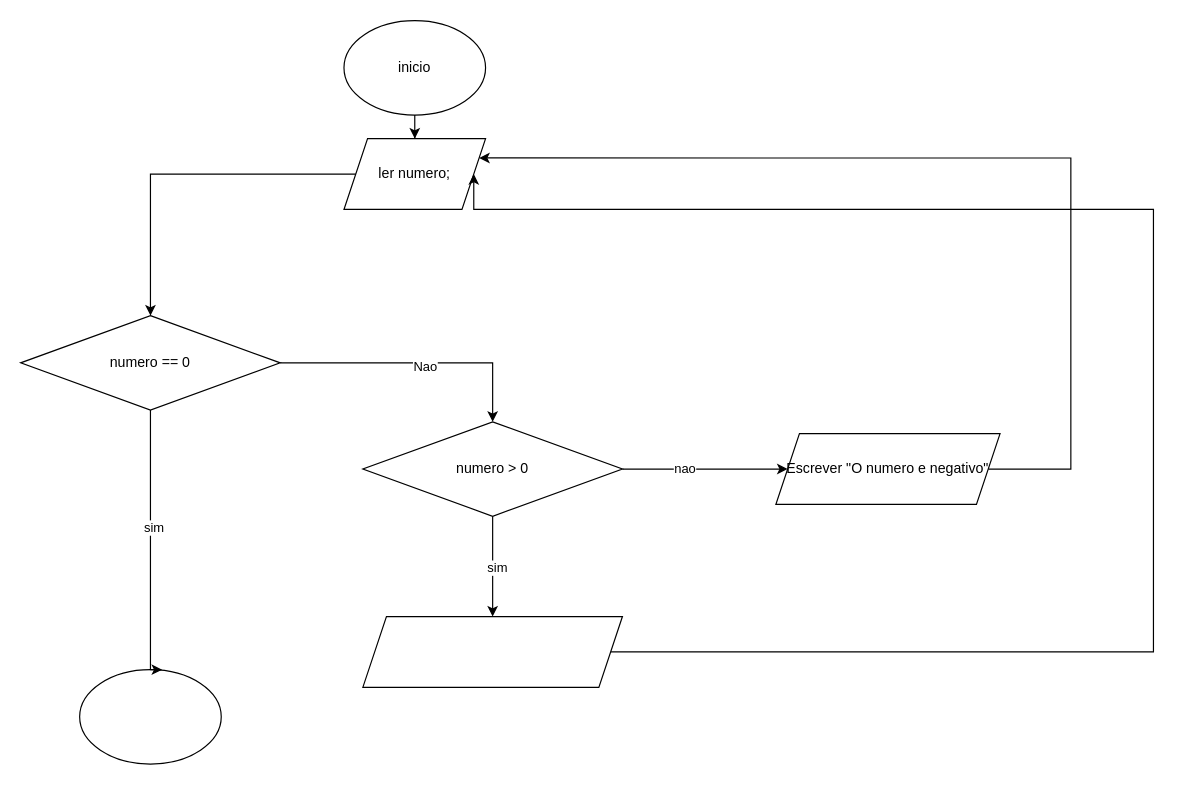
Some shapes in this 1184 by 785 pixel diagram are drawn without their labels. The shapes that lost their labels are listed below. From the top down, each one's centre as x and y in pixels, then its label:
the point at 492,651: Escrever "O numero e Postitivo"
the point at 149,716: Fim
